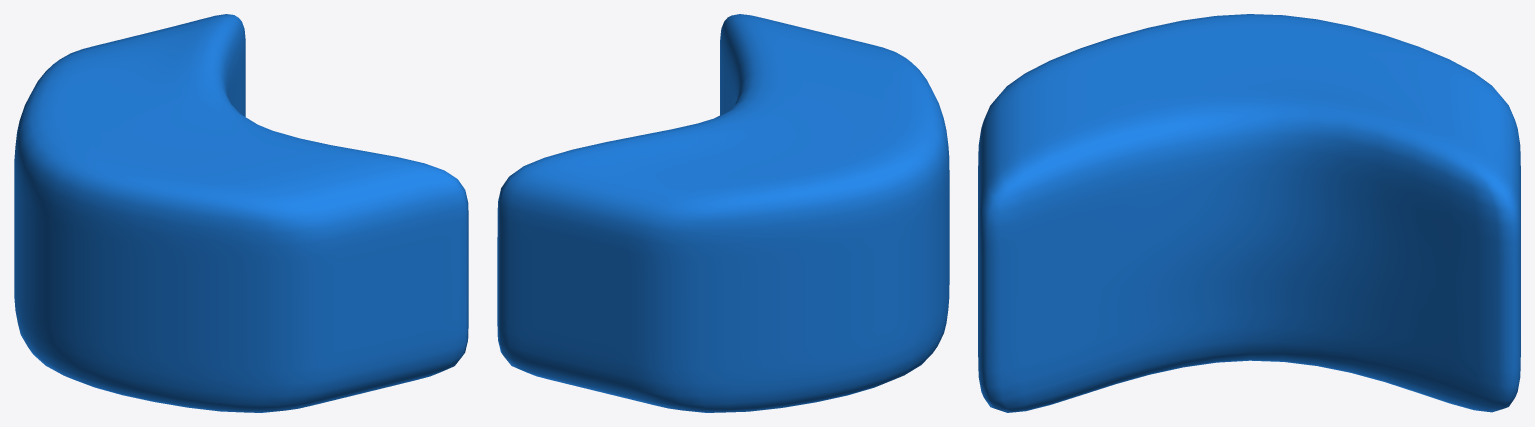
Rendered from Vacuolo v8.glb.
The picture shows the model from 3 angles, left to right: view 1: azimuth 30°, elevation 25°; view 2: azimuth 150°, elevation 25°; view 3: azimuth 270°, elevation 25°; orthographic projection. The views are drawn at different scales.
Visible parts, largest first — view 1: Vacuolo_HIGH; view 2: Vacuolo_HIGH; view 3: Vacuolo_HIGH.
Part boxes in pixels (left/top/right/bottom): Vacuolo_HIGH: left=14, top=14, right=468, bottom=412; Vacuolo_HIGH: left=497, top=14, right=949, bottom=412; Vacuolo_HIGH: left=978, top=14, right=1520, bottom=412.
Bounding box in the file's own units: 3.01 × 2.05 × 3.85.
